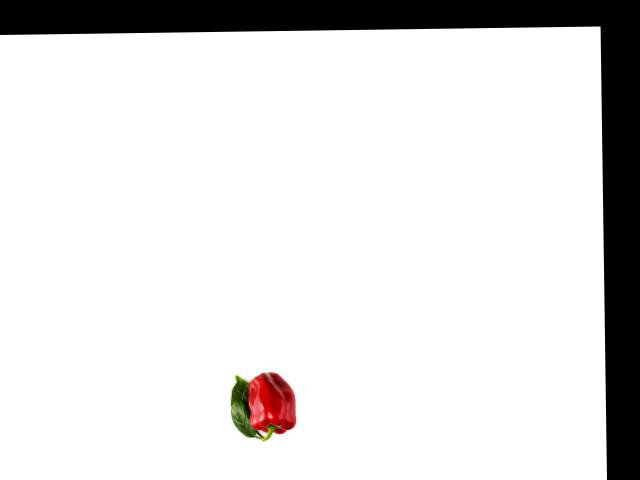bell_pepper: (244, 369, 302, 440)
